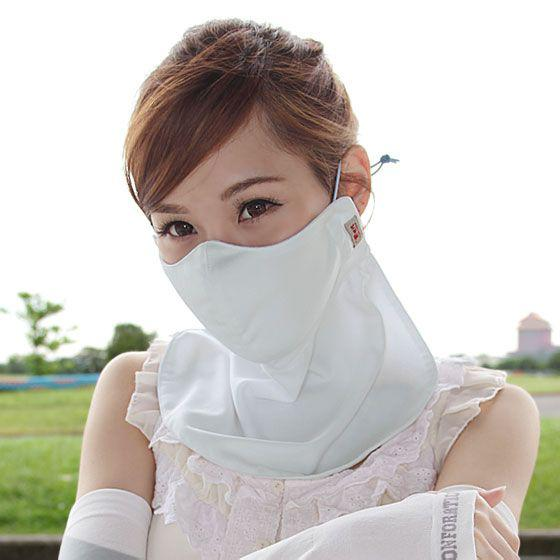OK: (152, 158, 349, 355)
